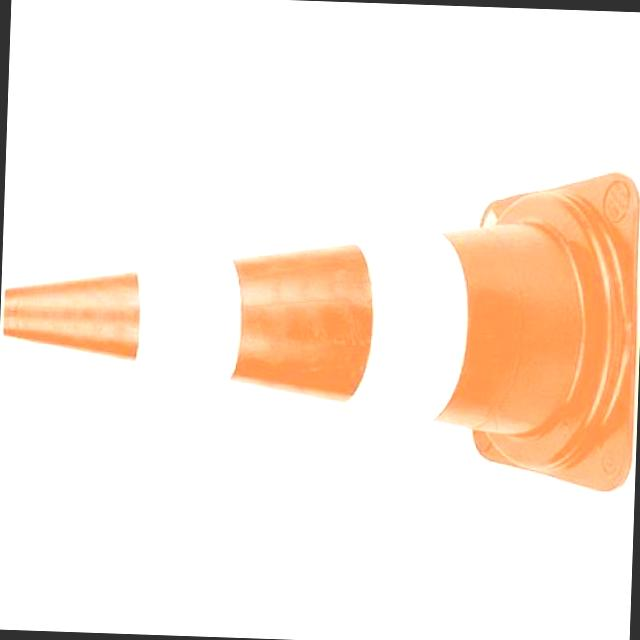cone: (9, 160, 636, 486)
